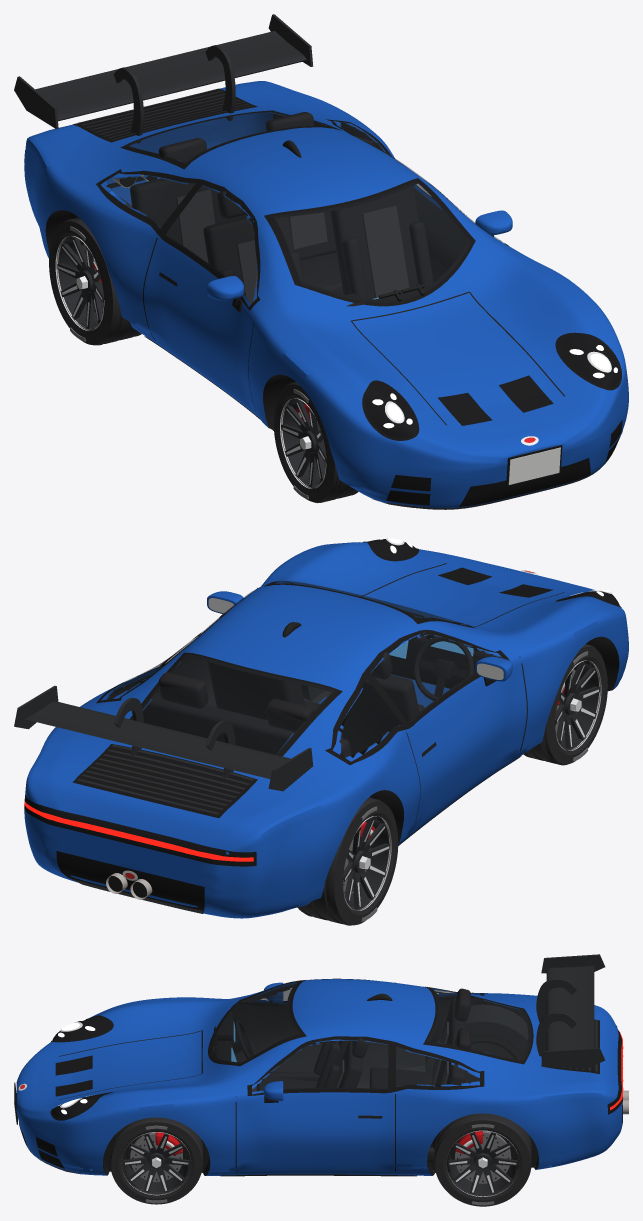
3 views of the same model, one above another, from view 1: azimuth 30°, elevation 25°; view 2: azimuth 150°, elevation 25°; view 3: azimuth 270°, elevation 25° (orthographic). The views are drawn at different scales.
Parts seen in each view (by area): view 1: Body, Wheel_RR, Wheel_FR; view 2: Body, Wheel_RR, Wheel_FR; view 3: Body, Wheel_RL, Wheel_FL, Wheel_RR.
Part boxes in pixels (box(x1,y1,x2,y2)): Body: box(14, 14, 628, 509); Wheel_RR: box(49, 217, 141, 345); Wheel_FR: box(273, 382, 358, 503); Body: box(14, 538, 628, 918); Wheel_RR: box(297, 797, 398, 925); Wheel_FR: box(523, 644, 607, 765); Body: box(14, 954, 628, 1176); Wheel_RL: box(434, 1113, 531, 1206); Wheel_FL: box(110, 1117, 202, 1204); Wheel_RR: box(471, 1032, 523, 1060).
Bounding box in the file's own units: 1.96 × 1.34 × 4.63.
